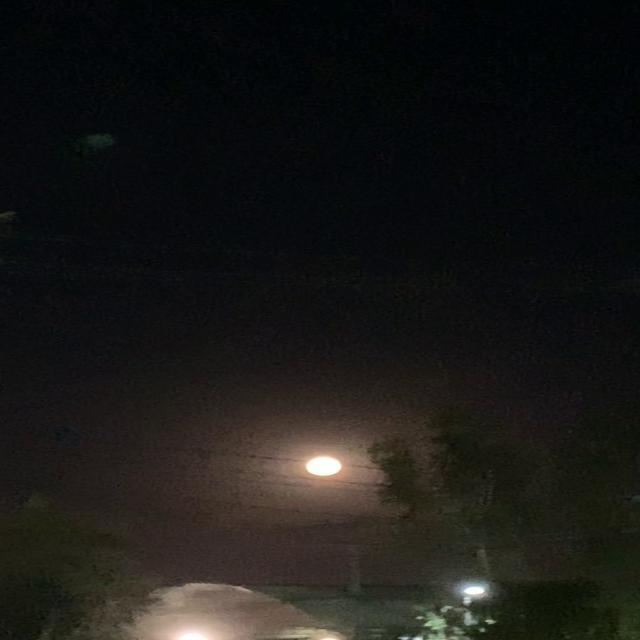moon: (306, 456, 359, 480)
